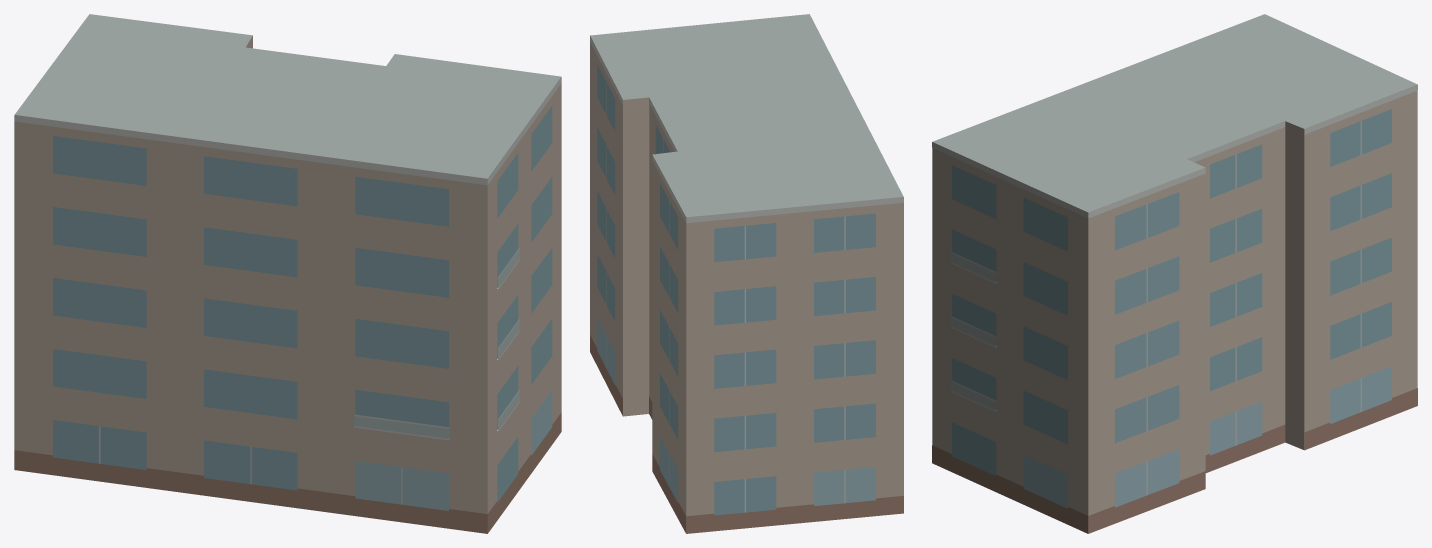
File: survey-upis-32835675.glb
The picture shows the model from 3 angles, left to right: view 1: azimuth 30°, elevation 25°; view 2: azimuth 150°, elevation 25°; view 3: azimuth 270°, elevation 25°; orthographic projection. The views are drawn at different scales.
Parts seen in each view (by area): view 1: survey-upis-32835675.tmp; view 2: survey-upis-32835675.tmp; view 3: survey-upis-32835675.tmp.
Boxes of the visible parts, box(x1,y1,x2,y2) form: survey-upis-32835675.tmp: box(14, 14, 561, 533); survey-upis-32835675.tmp: box(590, 14, 903, 533); survey-upis-32835675.tmp: box(932, 14, 1417, 533).
Size of the model in its own units: 17.49 by 13.2 by 18.08.
